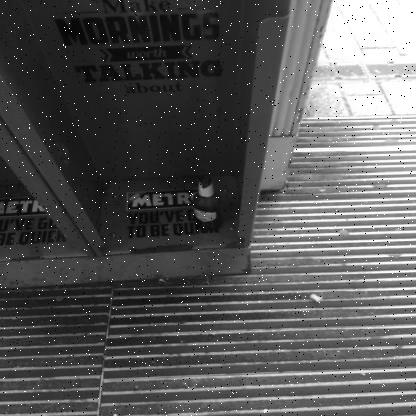glass: (192, 174, 223, 231)
